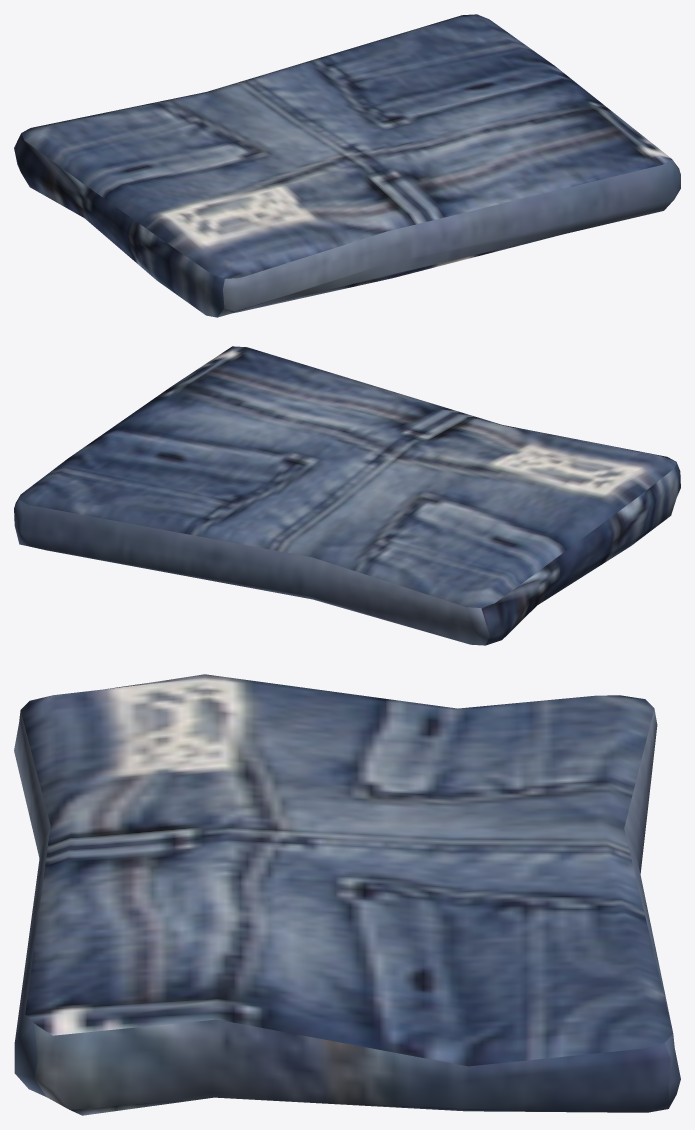
Rendered from pantsBlueFolded.fbx.
The picture shows the model from 3 angles, top to bottom: view 1: azimuth 30°, elevation 25°; view 2: azimuth 150°, elevation 25°; view 3: azimuth 270°, elevation 25°; orthographic projection. The views are drawn at different scales.
Visible parts, largest first — view 1: pantsBlueFolded; view 2: pantsBlueFolded; view 3: pantsBlueFolded.
Part boxes in pixels (x1,y1,x2,y2): pantsBlueFolded: (14,14,680,317); pantsBlueFolded: (14,346,680,645); pantsBlueFolded: (14,674,680,1115).
Bounding box in the file's own units: 1.07 × 0.1375 × 0.8084.
1 material, 1 textured.
